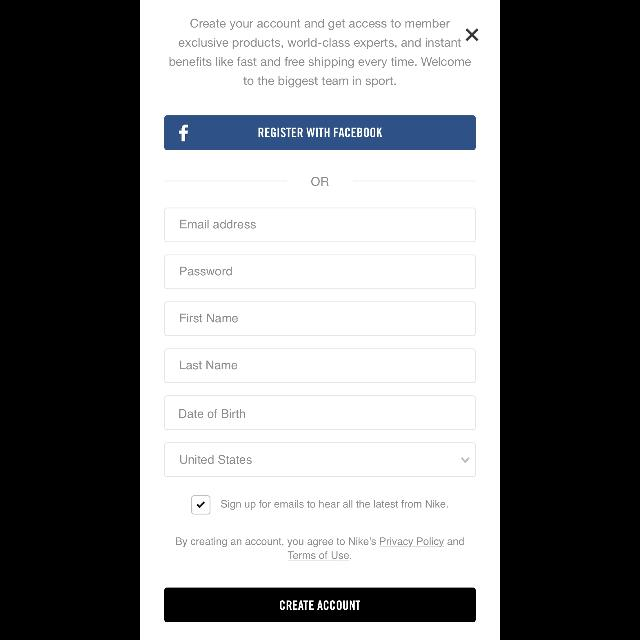checkbox: (192, 496, 210, 514)
icon: (466, 28, 478, 42), (461, 457, 469, 463)
input: (164, 442, 476, 478), (164, 348, 476, 384), (164, 254, 476, 290), (164, 396, 476, 430), (164, 302, 476, 336), (164, 208, 476, 242)
text: (170, 18, 470, 88), (176, 538, 464, 560), (221, 500, 447, 510), (180, 220, 256, 228), (179, 409, 245, 418), (180, 360, 238, 370), (180, 456, 252, 464), (180, 266, 232, 276), (180, 314, 238, 322), (312, 178, 328, 186)
textbutton: (164, 116, 476, 150), (164, 588, 476, 622)
